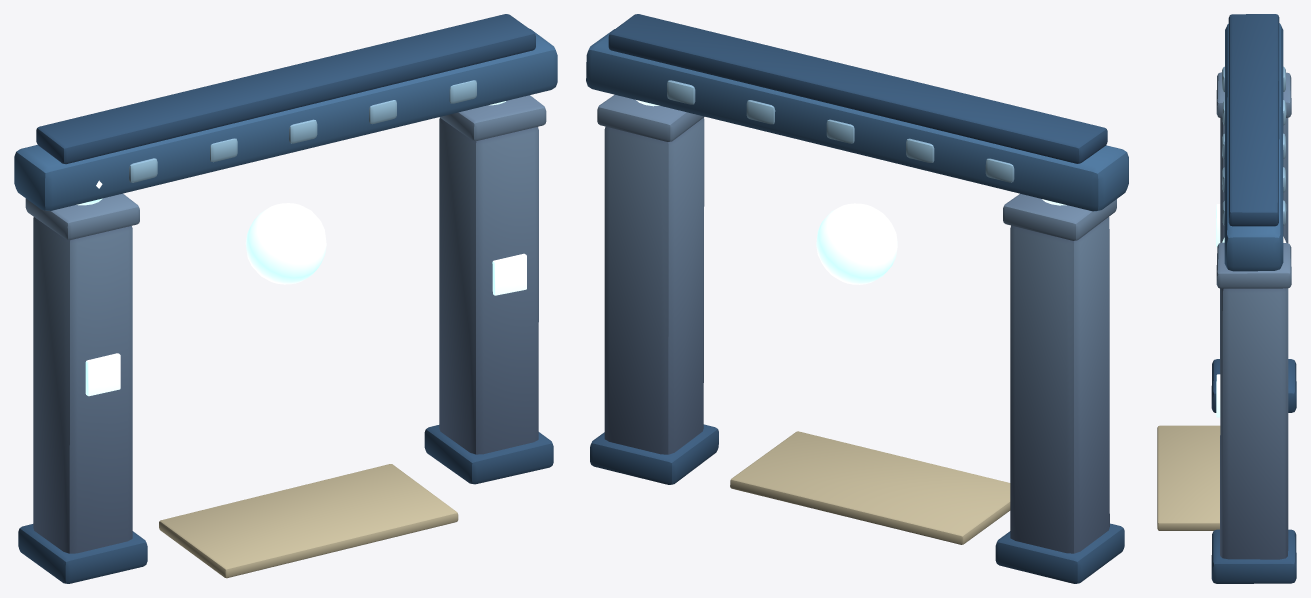
3 views of the same model, side by side, from view 1: azimuth 30°, elevation 25°; view 2: azimuth 150°, elevation 25°; view 3: azimuth 270°, elevation 25° (orthographic). The views are drawn at different scales.
Parts seen in each view (by area): view 1: gate_d3f24e18; view 2: gate_d3f24e18; view 3: gate_d3f24e18.
Part boxes in pixels (left/top/right/bottom): gate_d3f24e18: left=14, top=14, right=557, bottom=583; gate_d3f24e18: left=586, top=14, right=1128, bottom=583; gate_d3f24e18: left=1157, top=14, right=1296, bottom=583.
Size of the model in its own units: 5.32 by 4.24 by 1.44.
